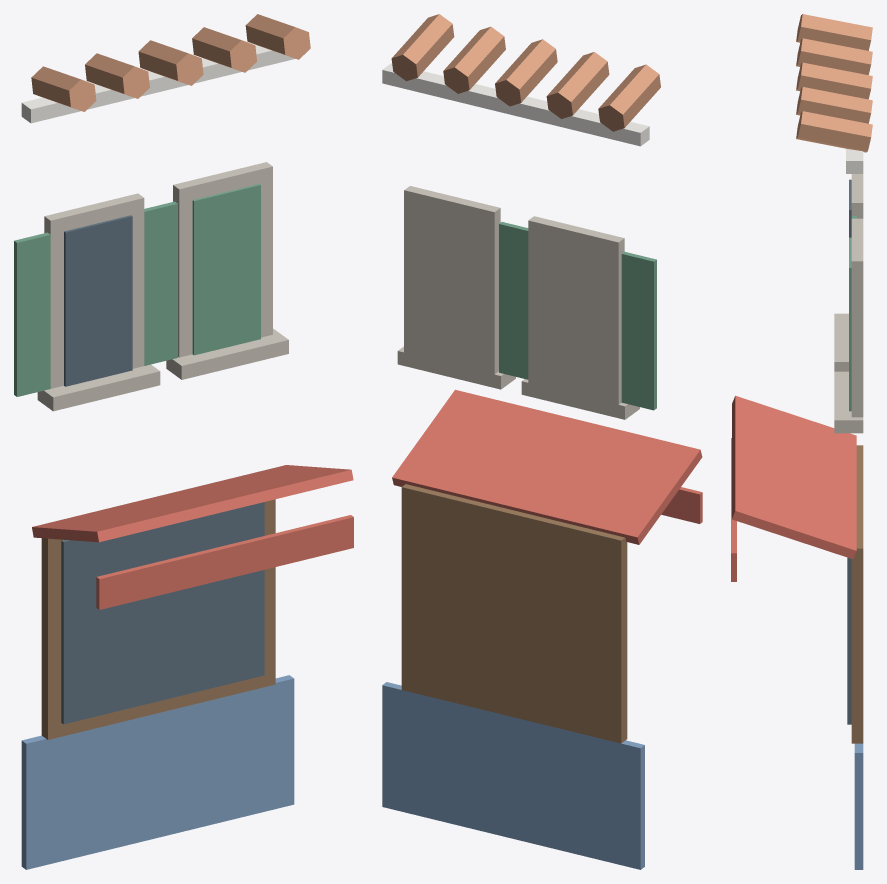
Rendered from VJ_Fachada_B.fbx.
The picture shows the model from 3 angles, left to right: view 1: azimuth 30°, elevation 25°; view 2: azimuth 150°, elevation 25°; view 3: azimuth 270°, elevation 25°; orthographic projection. The views are drawn at different scales.
Parts seen in each view (by area): view 1: VJ_Fachada_B; view 2: VJ_Fachada_B; view 3: VJ_Fachada_B.
Part boxes in pixels (left/top/right/bottom): VJ_Fachada_B: left=14, top=14, right=353, bottom=869; VJ_Fachada_B: left=382, top=14, right=702, bottom=869; VJ_Fachada_B: left=731, top=14, right=872, bottom=869.
Size of the model in its own units: 2.08 by 5.74 by 0.9874.
